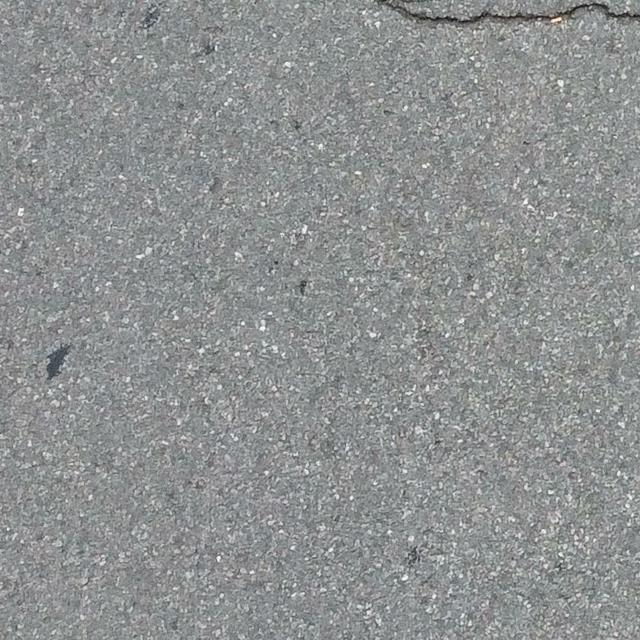TransverseCrack: (375, 1, 640, 30)
